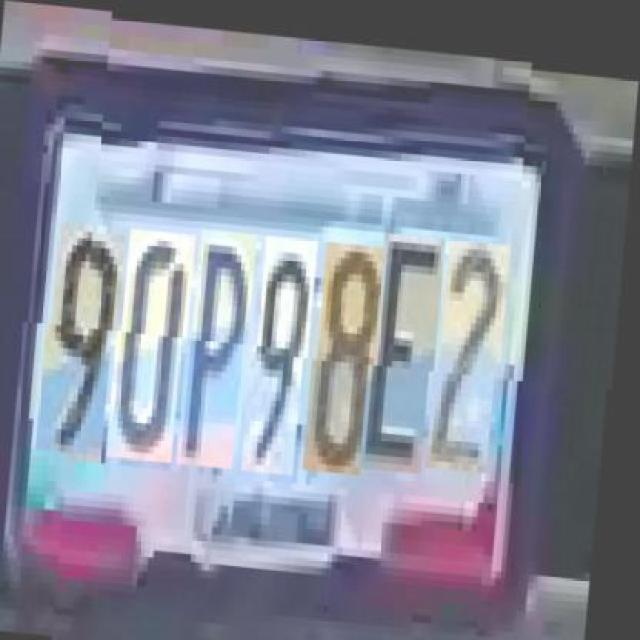0: (118, 226, 200, 459)
2: (438, 229, 514, 463)
8: (316, 235, 392, 467)
9: (48, 228, 129, 460), (254, 229, 321, 469)
e: (372, 225, 450, 464)
p: (188, 224, 261, 464)
